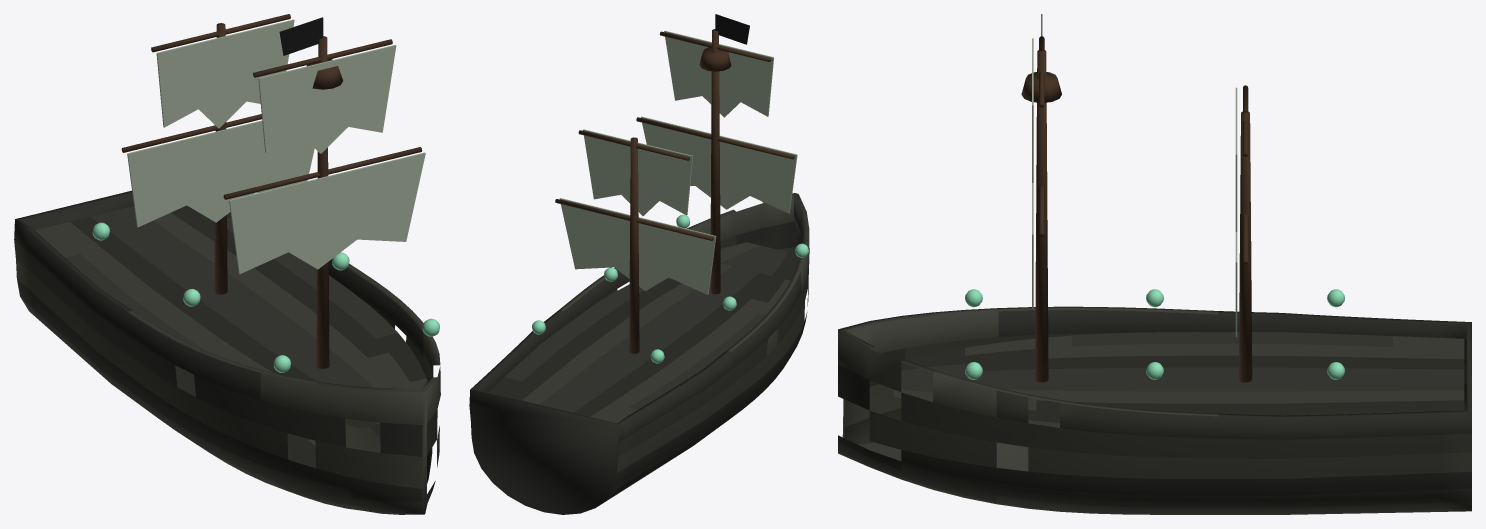
File: ghostship.glb
3 views of the same model, side by side, from view 1: azimuth 30°, elevation 25°; view 2: azimuth 150°, elevation 25°; view 3: azimuth 270°, elevation 25° (orthographic). The views are drawn at different scales.
Visible parts, largest first — view 1: Ghostship, Glow; view 2: Ghostship, Glow; view 3: Ghostship, Glow.
Boxes of the visible parts, x1,y1,x2,y2 form: Ghostship: (14, 14, 440, 514); Glow: (92, 192, 439, 372); Ghostship: (469, 14, 809, 514); Glow: (532, 214, 808, 363); Ghostship: (838, 14, 1471, 514); Glow: (965, 289, 1344, 379).
Size of the model in its own units: 11.12 by 22.8 by 28.
